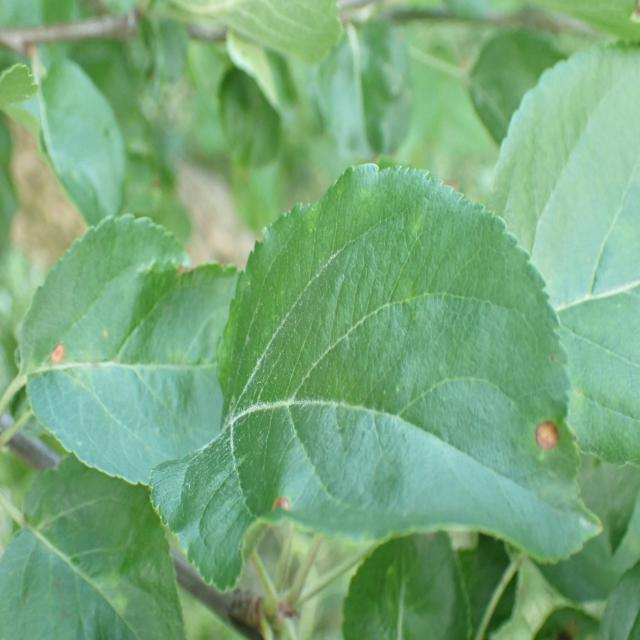Black Rot: (528, 388, 569, 481), (32, 330, 92, 384), (251, 487, 304, 530)
